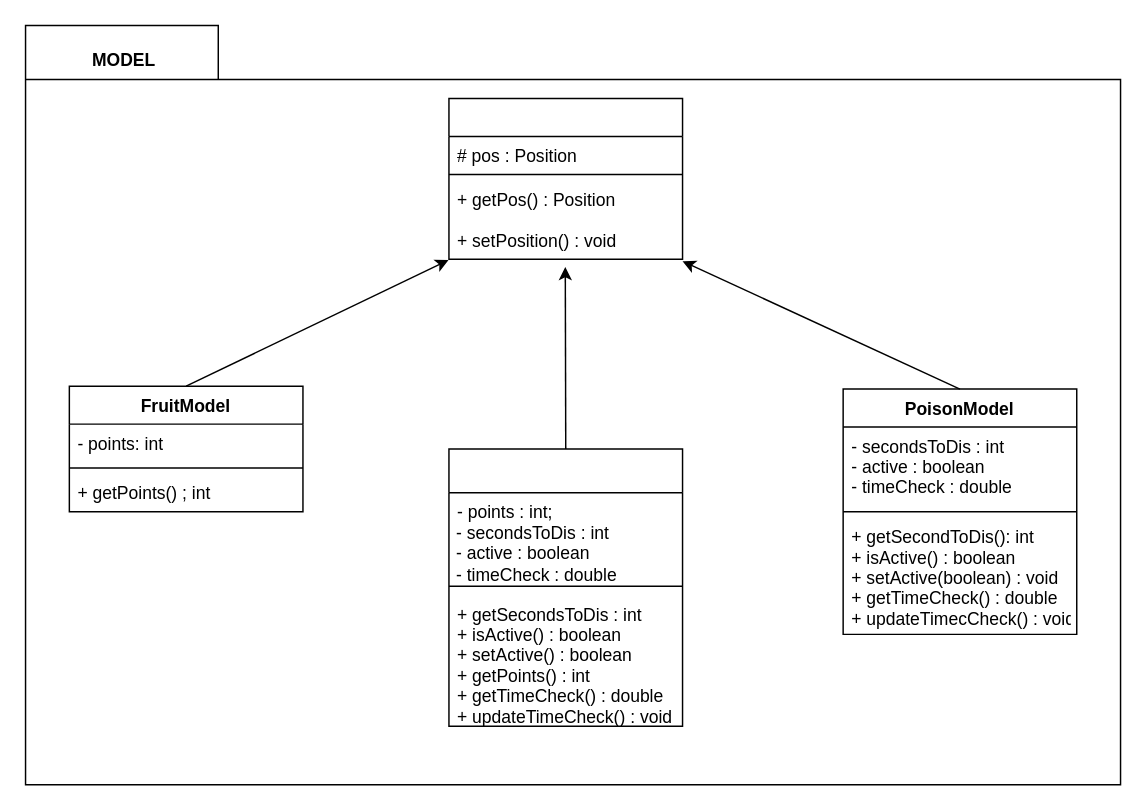
Some shapes in this 1146 by 810 pixel diagram are drawn without their labels. Each missing label, with the box of its shape:
BonusModel: (447, 447, 683, 726)
EntityModel: (447, 97, 683, 259)
